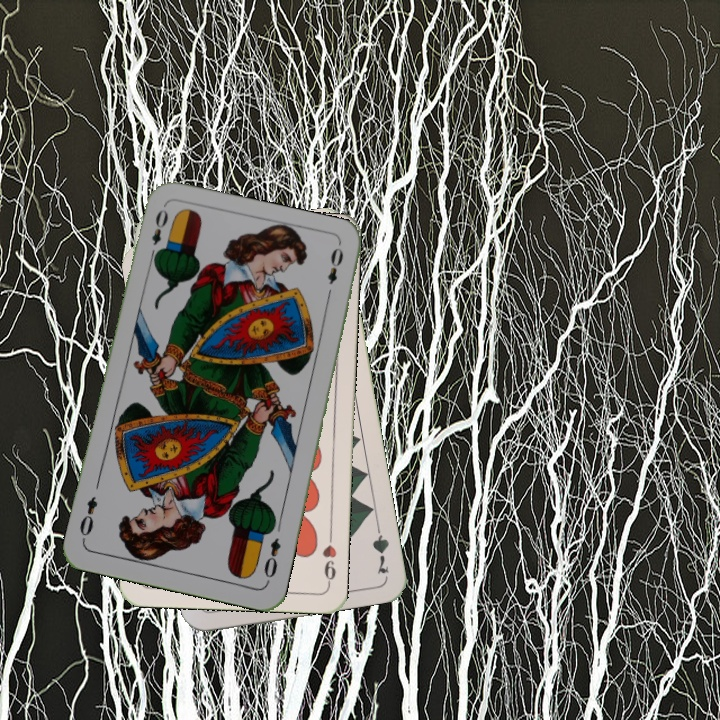EO: (146, 205, 171, 263), (259, 534, 284, 586)
G7: (368, 517, 392, 577)
H9: (318, 528, 339, 588)
